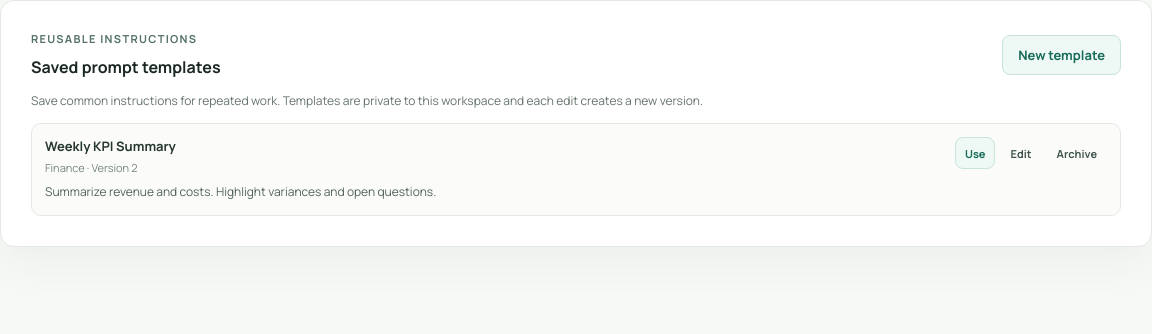
Test: PromptTemplatesPanel › archives a template through the guarded soft-archive RPC
This screenshot has width=1152, height=334.
expect the text "Weekly KPI Summary" is shown: met, box x1=45 y1=137 x2=176 y2=155
Click the button "Archive" at [1077, 153], box x1=1047 y1=137 x2=1107 y2=169
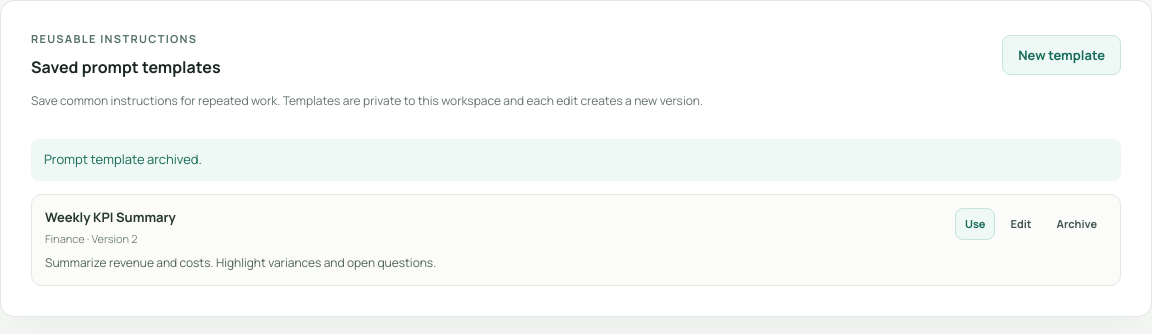
expect the message shows "Prompt template archived": met, box x1=44 y1=150 x2=202 y2=168
